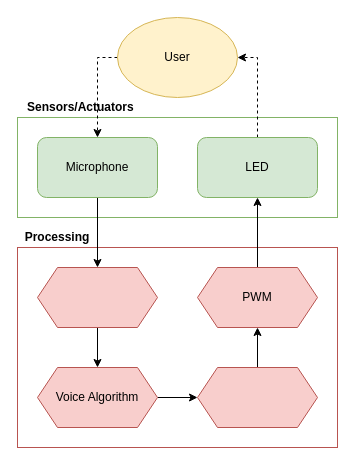
This 355x465 diagram has some shape labels left out. Each missing label, with the centre of its shape:
BLE connection: the point at 257,397
I2S: the point at 97,297
